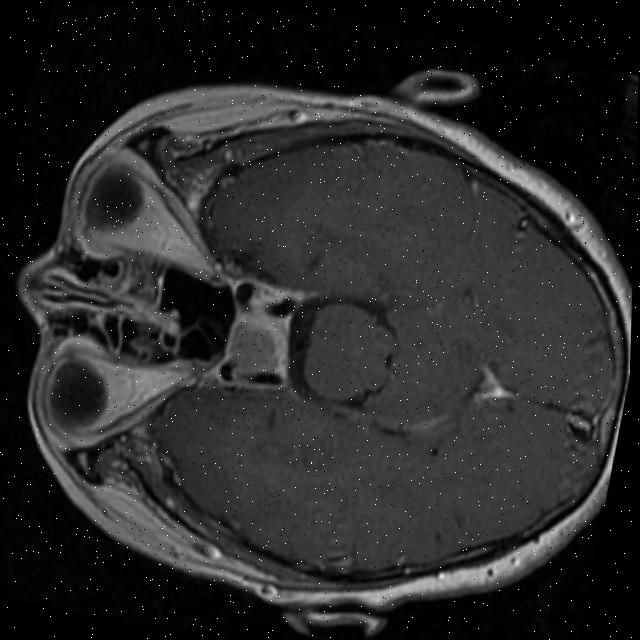Pituitary: (222, 315, 284, 378)
